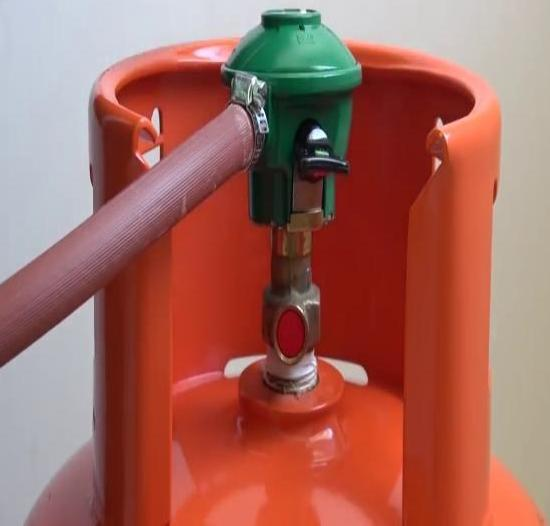cylinder: (1, 0, 550, 526)
